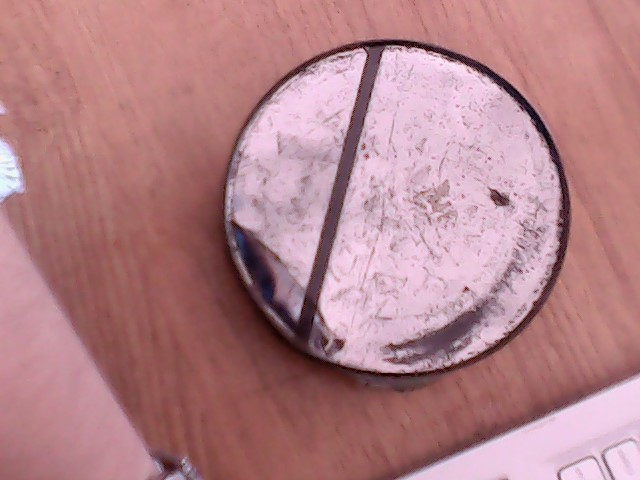Metal: (189, 31, 630, 392)
